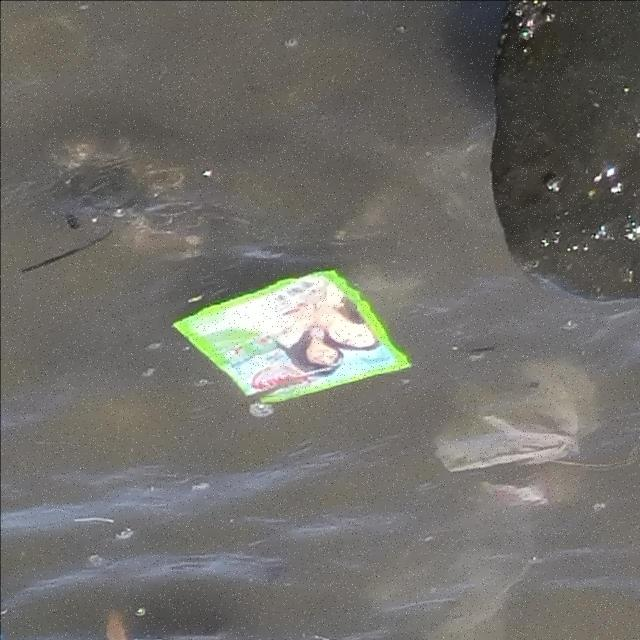plastic_waste: (170, 269, 415, 406)
